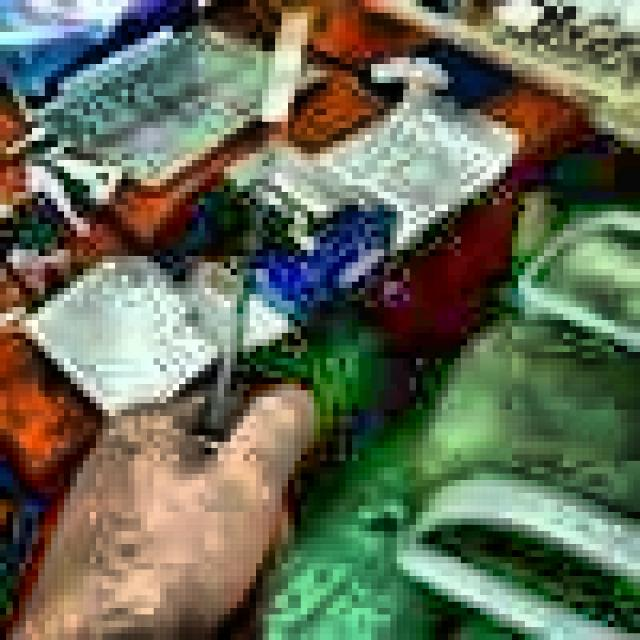knife: (200, 9, 304, 467)
